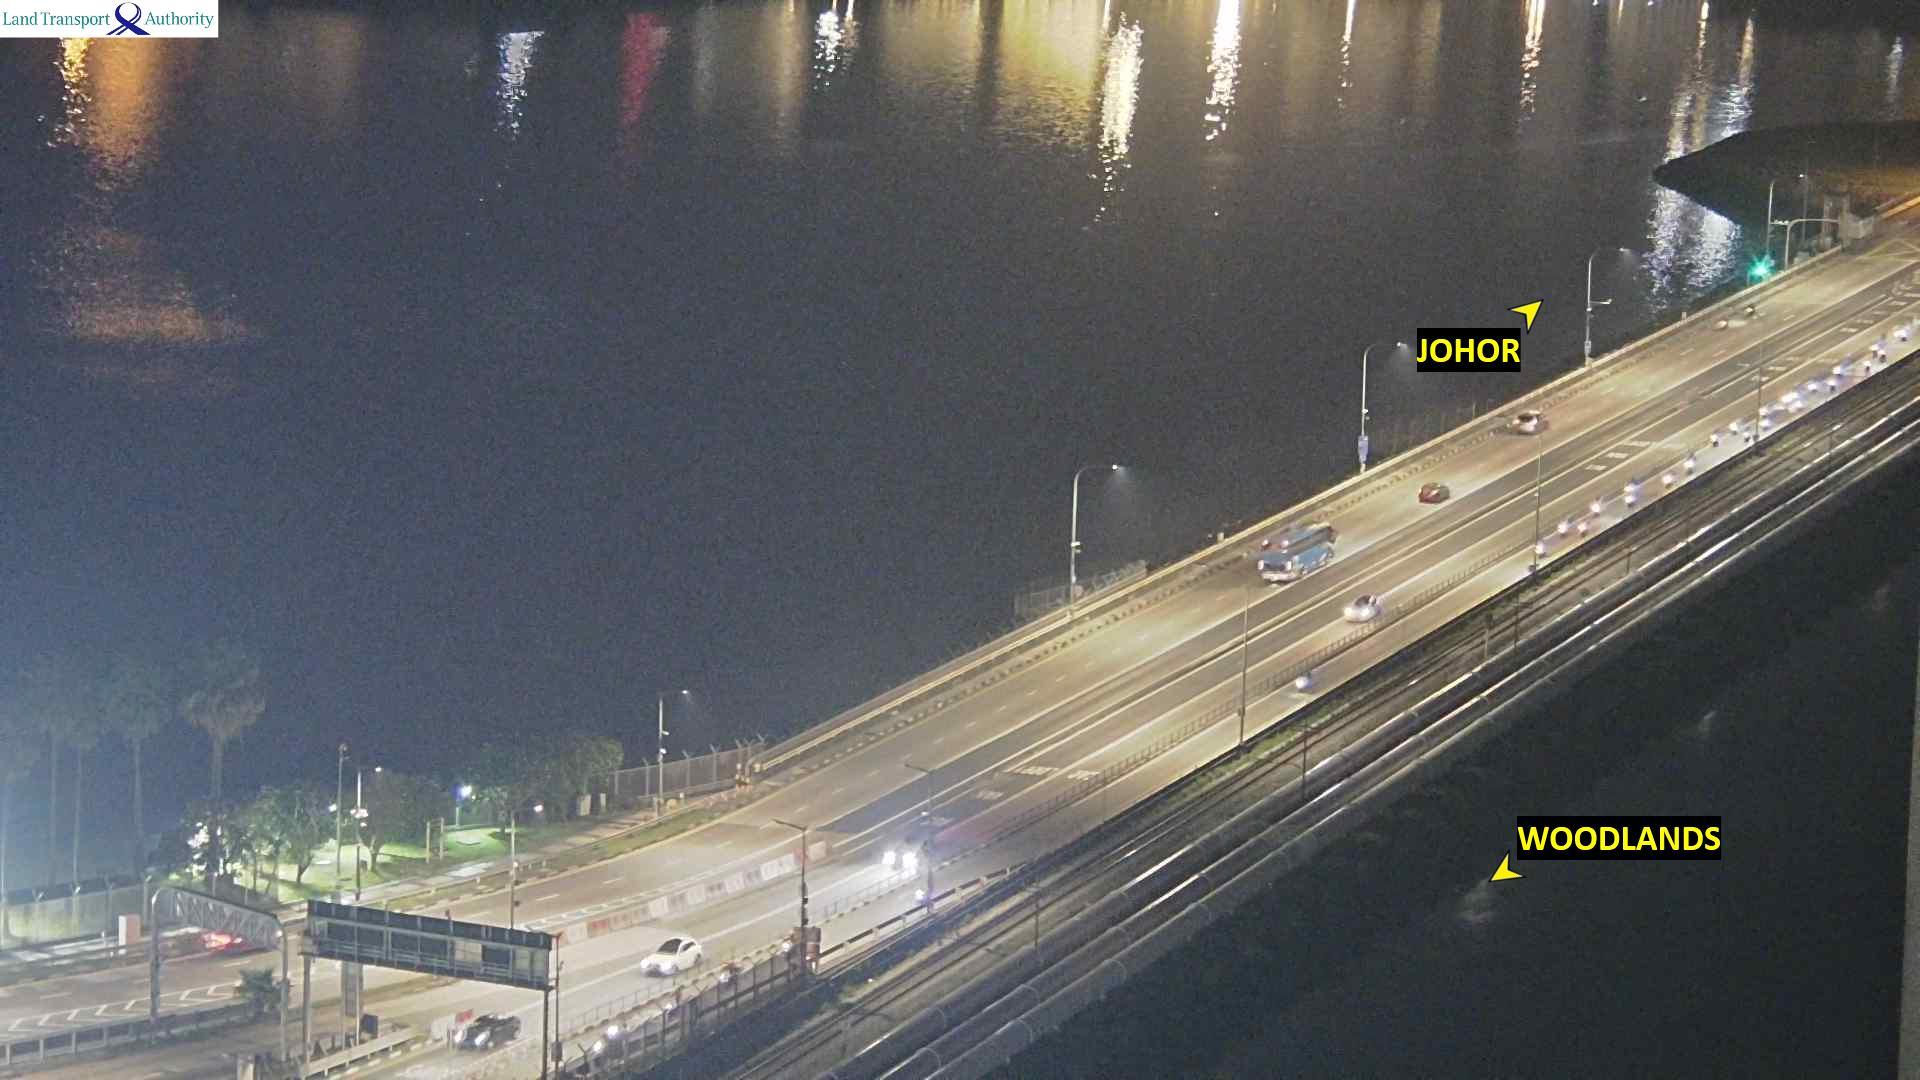vehicle-causeway-johor: (1259, 521, 1332, 580), (1514, 410, 1547, 431), (1412, 485, 1449, 502), (1745, 302, 1755, 319), (1714, 318, 1729, 327)
vehicle-causeway-singapore: (640, 939, 704, 976), (458, 1011, 520, 1048), (884, 836, 931, 869), (1346, 593, 1382, 621), (1625, 479, 1638, 504), (1685, 450, 1697, 476), (1660, 469, 1673, 491), (1867, 339, 1878, 356), (1730, 418, 1741, 434), (1580, 521, 1589, 538), (1590, 501, 1600, 518), (1898, 328, 1909, 342), (1557, 521, 1568, 535), (1826, 381, 1834, 398), (1710, 430, 1718, 446), (1742, 429, 1750, 443), (1808, 378, 1816, 393), (1879, 349, 1887, 363), (1538, 541, 1544, 555), (1865, 363, 1871, 375)
